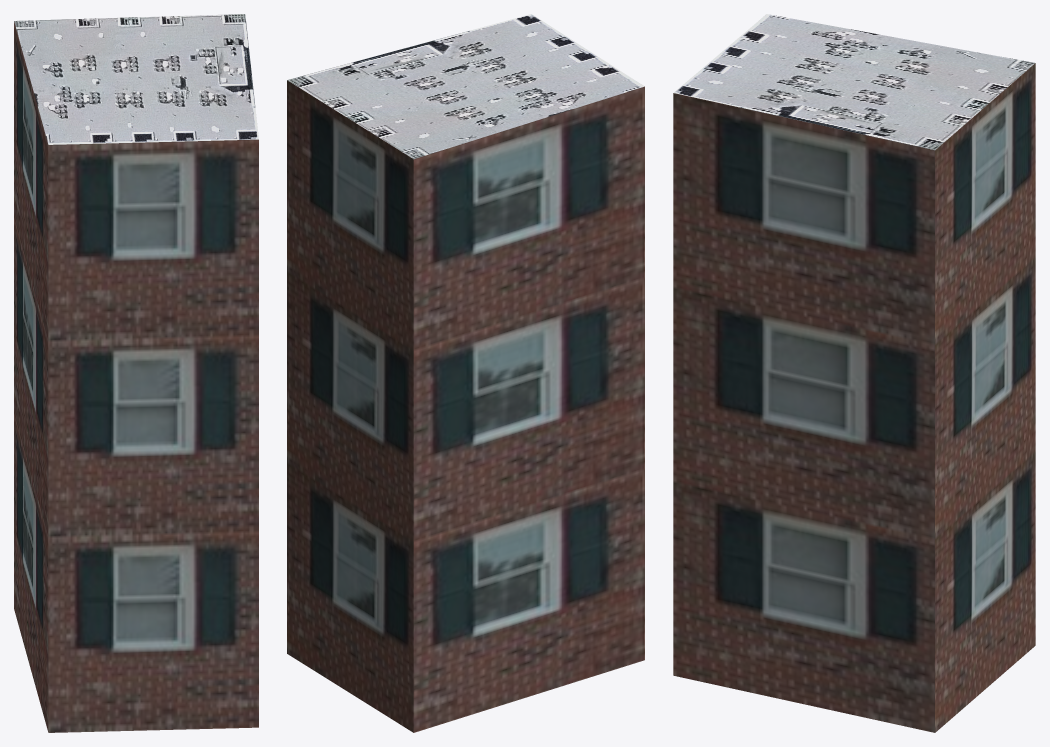
The model's file is ResTex__4202.fbx.
The picture shows the model from 3 angles, left to right: view 1: azimuth 30°, elevation 25°; view 2: azimuth 150°, elevation 25°; view 3: azimuth 270°, elevation 25°; orthographic projection. The views are drawn at different scales.
Parts seen in each view (by area): view 1: CityEngineMaterial_14_m, CityEngineMaterial_4_m; view 2: CityEngineMaterial_14_m, CityEngineMaterial_4_m; view 3: CityEngineMaterial_14_m, CityEngineMaterial_4_m.
Part boxes in pixels (x1,y1,x2,y2): CityEngineMaterial_14_m: (14, 21, 258, 732); CityEngineMaterial_4_m: (14, 14, 258, 144); CityEngineMaterial_14_m: (287, 80, 644, 732); CityEngineMaterial_4_m: (287, 14, 644, 159); CityEngineMaterial_14_m: (673, 63, 1035, 732); CityEngineMaterial_4_m: (674, 14, 1034, 150).
Size of the model in its own units: 4.52 by 9 by 5.07.
Materials: 2 (2 with a texture image).
